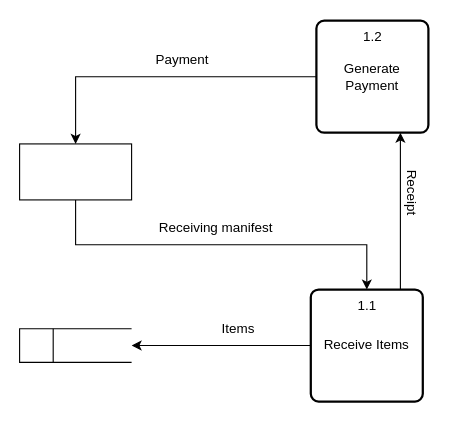
Image size: 449x421. Some labels were removed from this diagram. The centre of each missing label's shape, as x and y in pixels:
"Inventory" goes at (75,345).
"Vendor" goes at (75,171).
